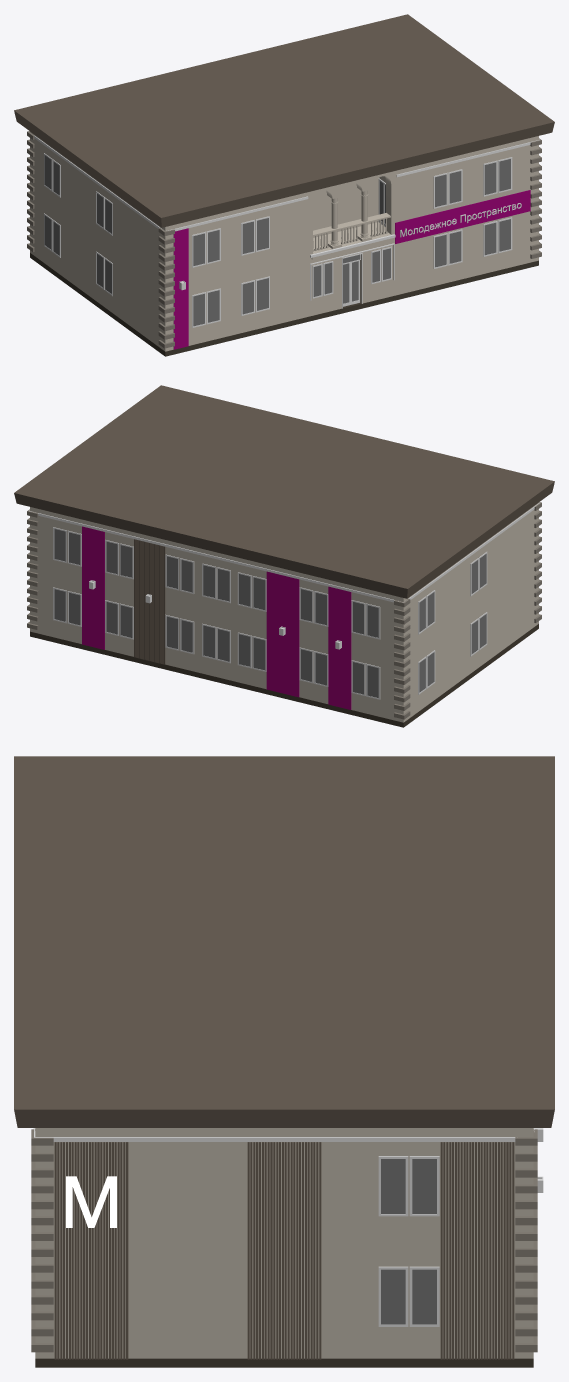
The model's file is Тырныауз.fbx.
3 renders of one model, top to bottom at view 1: azimuth 30°, elevation 25°; view 2: azimuth 150°, elevation 25°; view 3: azimuth 270°, elevation 25°, orthographic. The views are drawn at different scales.
Visible parts, largest first — view 1: Cube, Cube.034, Cube.041, Cube.040, Cube.042, Cube.020, Cube.004, Cube.021, Cube.005, Cube.006, Cube.022, Cube.023 (+11 smaller); view 2: Cube, Cube.039, Cube.036, Cube.034, Cube.038, Cube.037, Cube.042, Cube.017, Cube.025, Cube.032, Cube.033, Cube.009 (+13 smaller); view 3: Cube, Cube.035, Cube.034, Cube.013, Cube.029, Cube.042, Text.001.
Part boxes in pixels (<box>): Cube: <box>14,14,554,356</box>; Cube.034: <box>27,131,541,348</box>; Cube.041: <box>395,190,530,243</box>; Cube.040: <box>173,228,188,349</box>; Cube.042: <box>34,135,539,231</box>; Cube.020: <box>433,169,462,208</box>; Cube.004: <box>433,229,462,268</box>; Cube.021: <box>483,157,512,196</box>; Cube.005: <box>483,217,512,256</box>; Cube.006: <box>192,288,220,327</box>; Cube.022: <box>192,228,220,267</box>; Cube.023: <box>241,216,269,255</box>; Cube: <box>14,385,554,727</box>; Cube.039: <box>266,571,299,697</box>; Cube.036: <box>134,539,165,664</box>; Cube.034: <box>27,502,541,719</box>; Cube.038: <box>328,586,351,709</box>; Cube.037: <box>82,526,104,649</box>; Cube.042: <box>29,502,539,602</box>; Cube.017: <box>299,647,328,686</box>; Cube.025: <box>165,554,194,594</box>; Cube.032: <box>351,600,380,639</box>; Cube.033: <box>299,587,328,626</box>; Cube.009: <box>165,614,194,654</box>; Cube: <box>14,756,554,1367</box>; Cube.035: <box>54,1142,514,1359</box>; Cube.034: <box>31,1129,537,1352</box>; Cube.013: <box>378,1266,439,1326</box>; Cube.029: <box>378,1156,439,1216</box>; Cube.042: <box>34,1128,534,1141</box>; Text.001: <box>66,1176,116,1227</box>.
Bounding box in the file's own units: 1897 × 669 × 1227.
